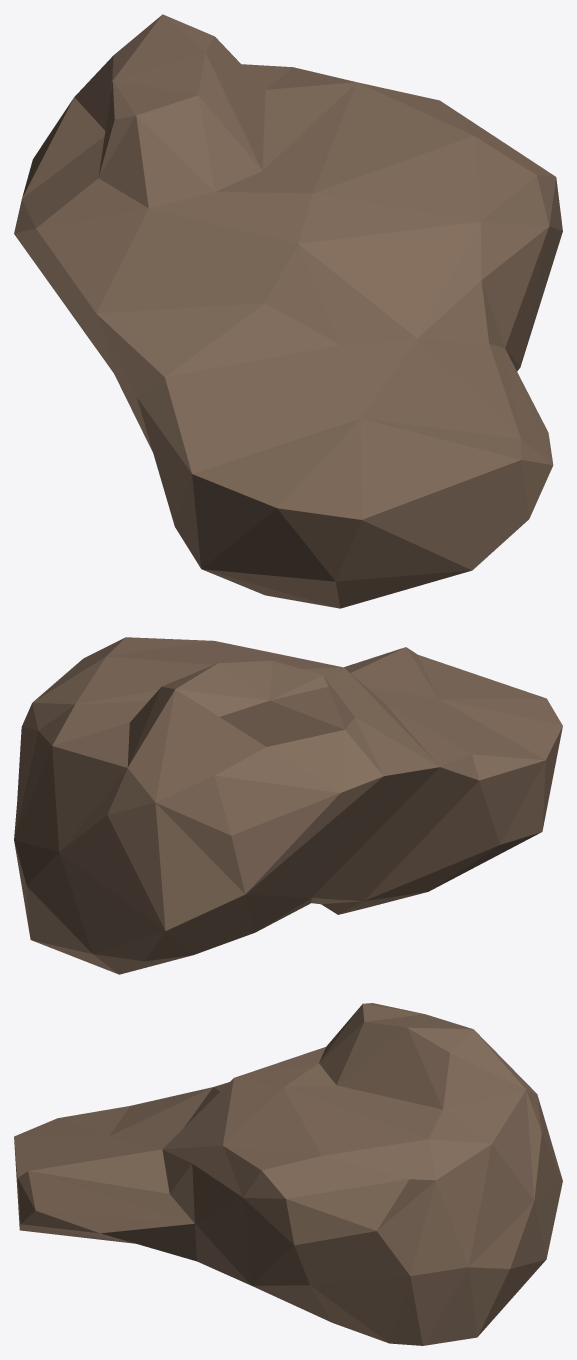
File: LandscapeRock1.fbx
3 views of the same model, one above another, from view 1: azimuth 30°, elevation 25°; view 2: azimuth 150°, elevation 25°; view 3: azimuth 270°, elevation 25° (orthographic). The views are drawn at different scales.
Visible parts, largest first — view 1: LandscapeRock1; view 2: LandscapeRock1; view 3: LandscapeRock1.
Part boxes in pixels (<box>): LandscapeRock1: <box>14,14,562,608</box>; LandscapeRock1: <box>14,637,562,974</box>; LandscapeRock1: <box>14,1003,562,1345</box>.
Bounding box in the file's own units: 256 × 183 × 363.
